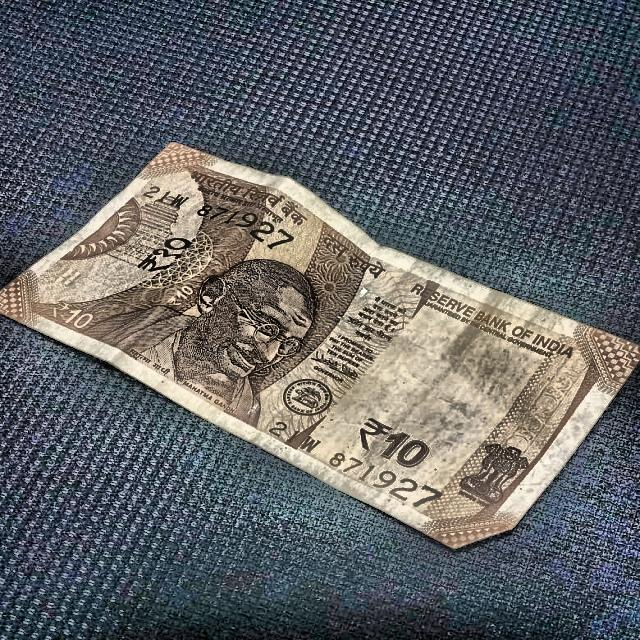-10-: (0, 128, 640, 549)
